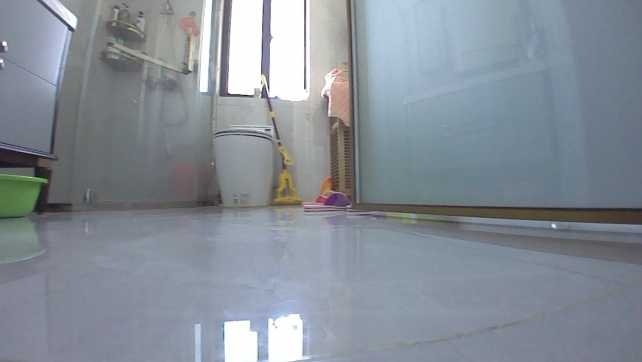slipper: (301, 188, 354, 211)
toilet: (210, 121, 282, 210)
washstand: (0, 0, 82, 170)
